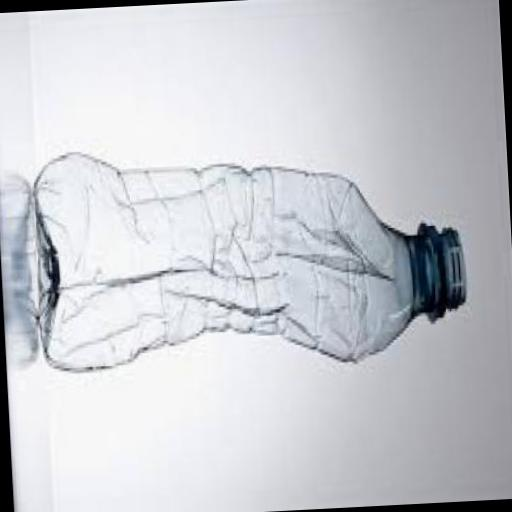plastic: (28, 136, 470, 386)
